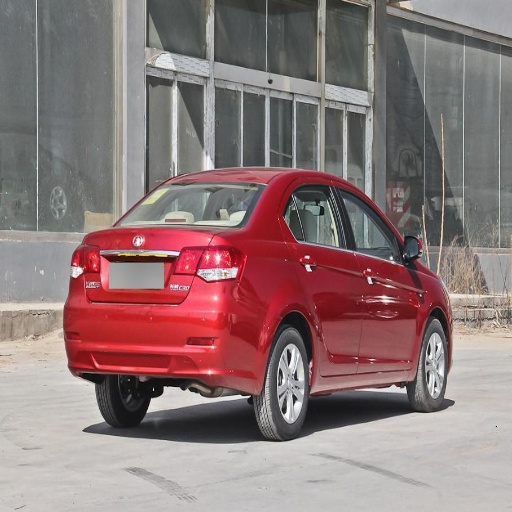back_bumper: (63, 277, 277, 386)
back_right_door: (286, 180, 363, 375)
tailgate: (87, 222, 202, 295)
trunk: (84, 227, 217, 307)
